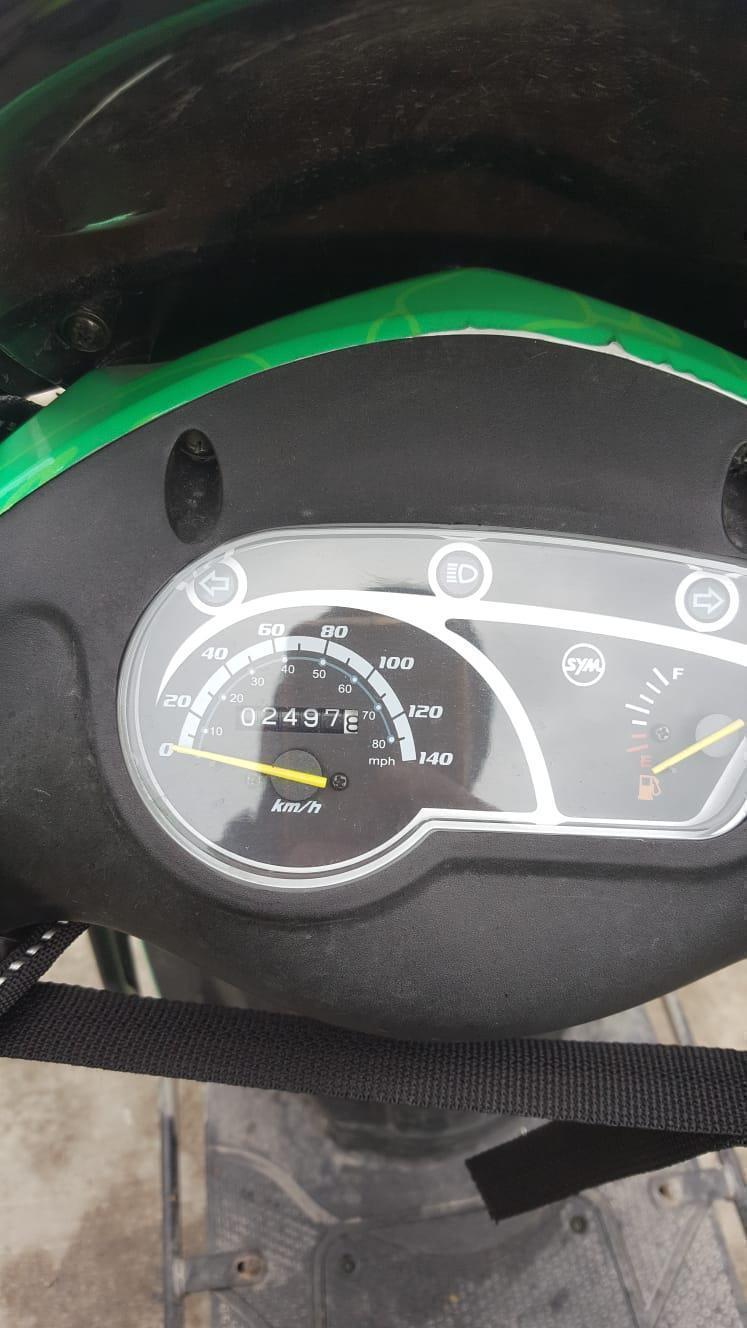0: (240, 705, 255, 728)
2: (259, 704, 276, 727)
4: (282, 706, 297, 728)
7: (324, 706, 340, 728)
8: (345, 712, 360, 734)
9: (303, 706, 318, 730)
odometer: (233, 703, 361, 736)
